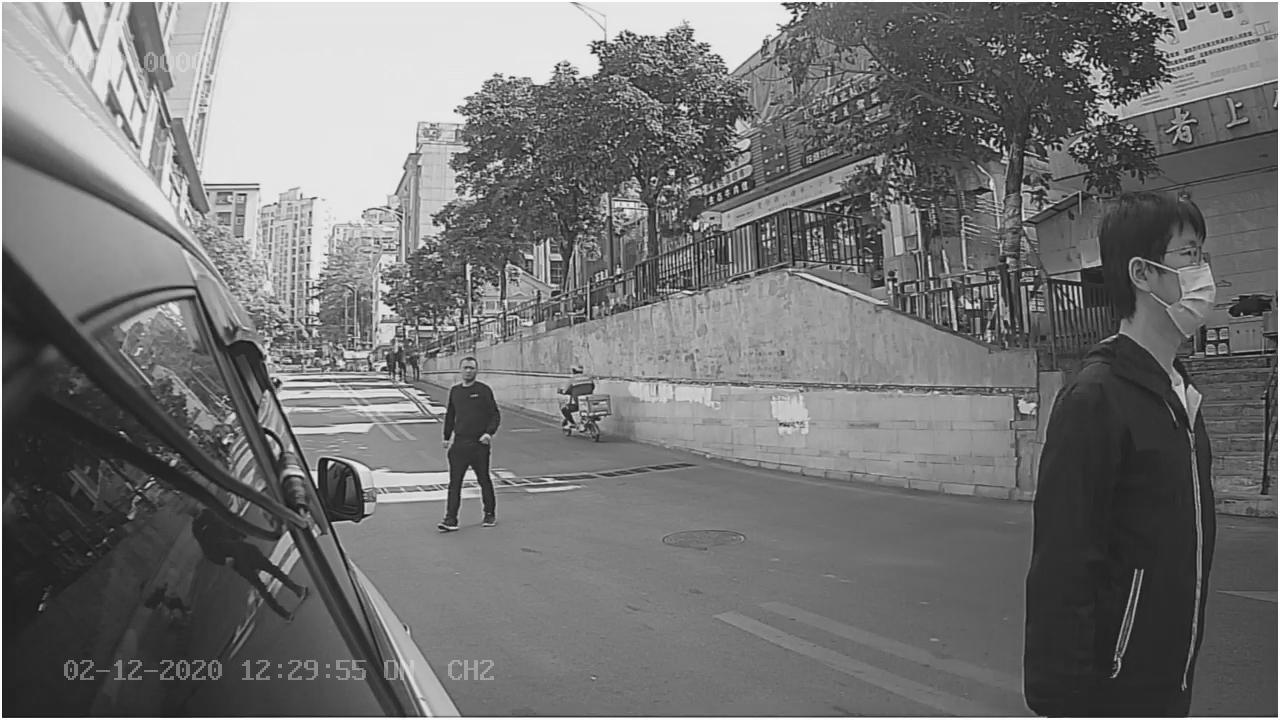person: (1025, 189, 1228, 572), (421, 348, 514, 544)
